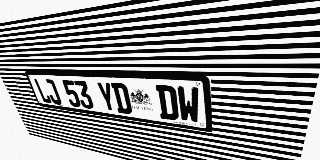3: (74, 81, 95, 109)
5: (62, 80, 82, 108)
D: (155, 85, 179, 121), (111, 82, 133, 115)
J: (43, 79, 63, 105)
L: (33, 78, 52, 104)
W: (176, 86, 201, 124)
Y: (96, 82, 118, 113)
